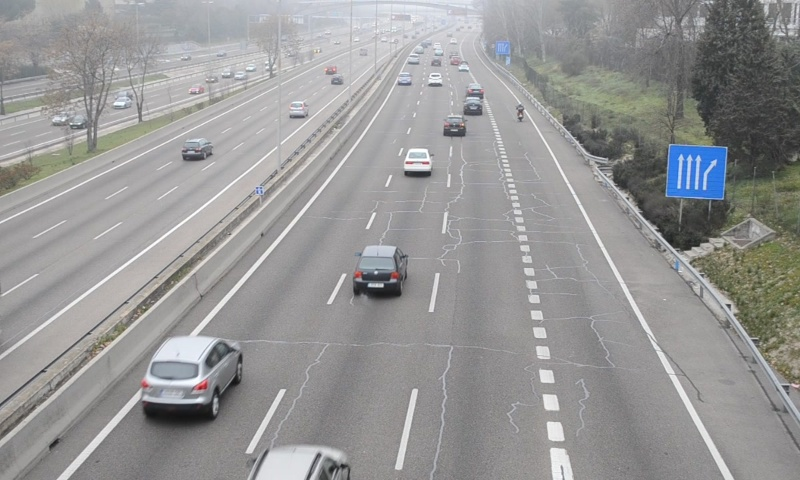car: (141, 337, 242, 411), (353, 246, 407, 294), (404, 147, 434, 172), (443, 114, 466, 136), (463, 97, 483, 116), (466, 82, 485, 98), (426, 72, 444, 87)
motorcycle: (515, 102, 525, 123)
